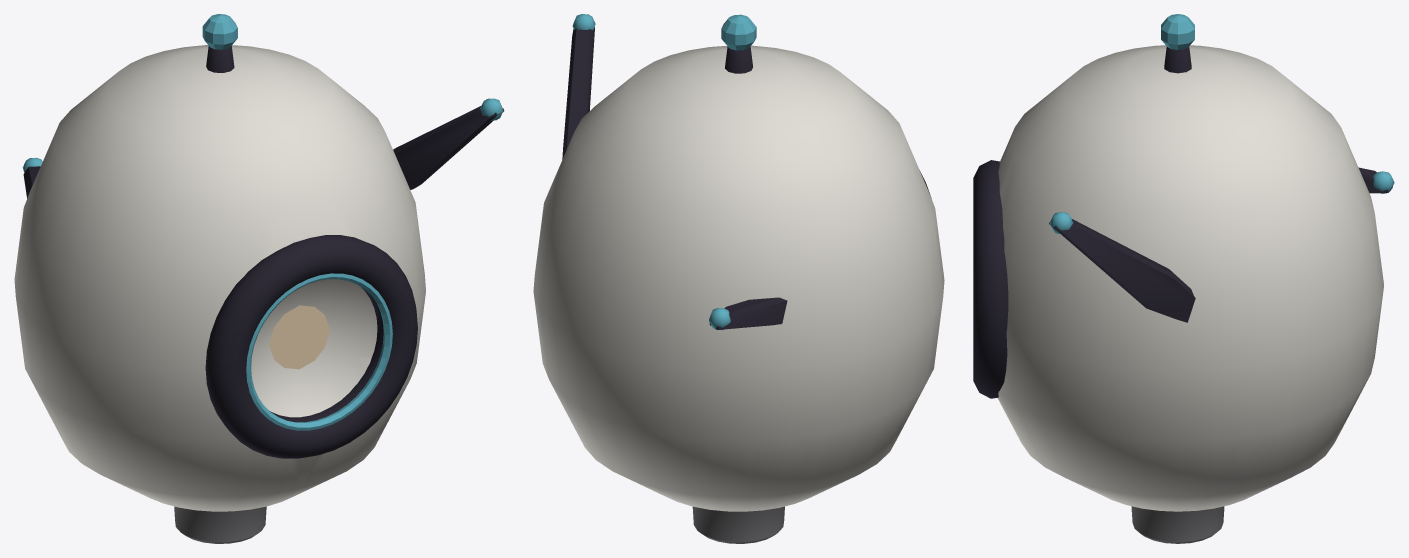
File: Kit_Head_LeagueEye.glb
3 views of the same model, side by side, from view 1: azimuth 30°, elevation 25°; view 2: azimuth 150°, elevation 25°; view 3: azimuth 270°, elevation 25° (orthographic).
Visible parts, largest first — view 1: Kit_Head_LeagueEye, FacePlate; view 2: Kit_Head_LeagueEye; view 3: Kit_Head_LeagueEye.
Part boxes in pixels (left/top/right/bottom): Kit_Head_LeagueEye: left=14, top=14, right=504, bottom=543; FacePlate: left=269, top=305, right=329, bottom=369; Kit_Head_LeagueEye: left=533, top=14, right=944, bottom=543; Kit_Head_LeagueEye: left=973, top=14, right=1394, bottom=543.
Bounding box in the file's own units: 0.3491 × 0.424 × 0.3166.
